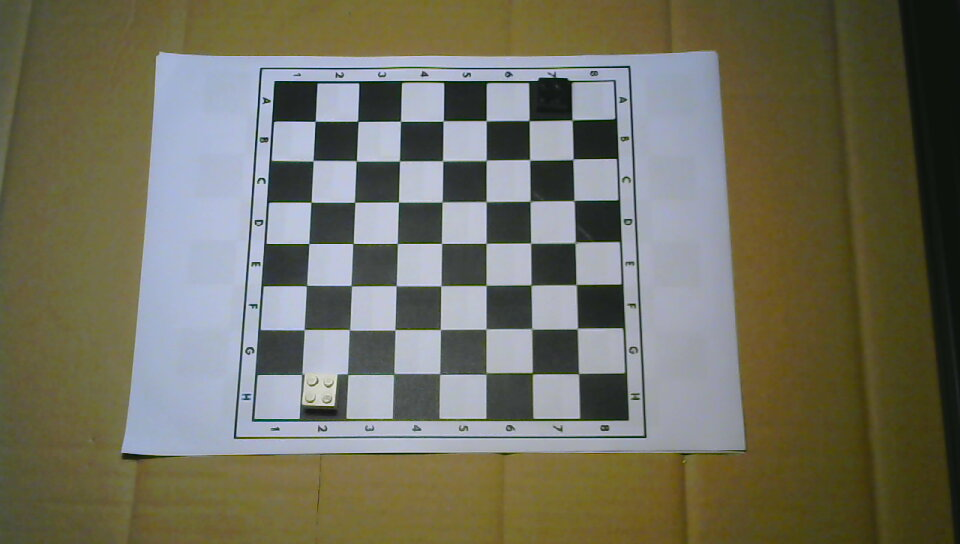bp: (534, 77, 573, 116)
wp: (301, 370, 341, 411)
